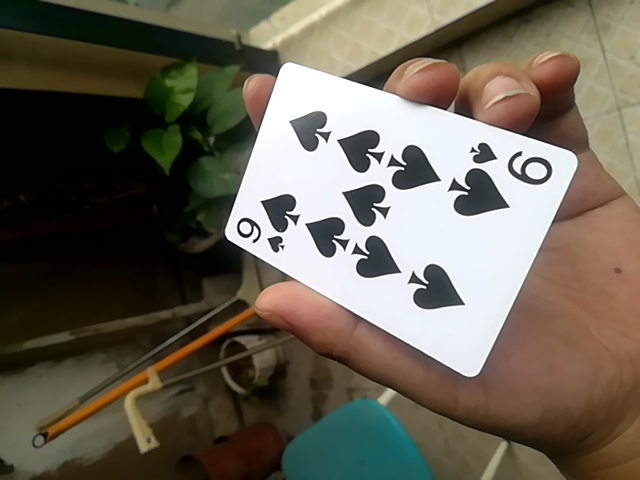ht 9: (206, 56, 579, 383)
